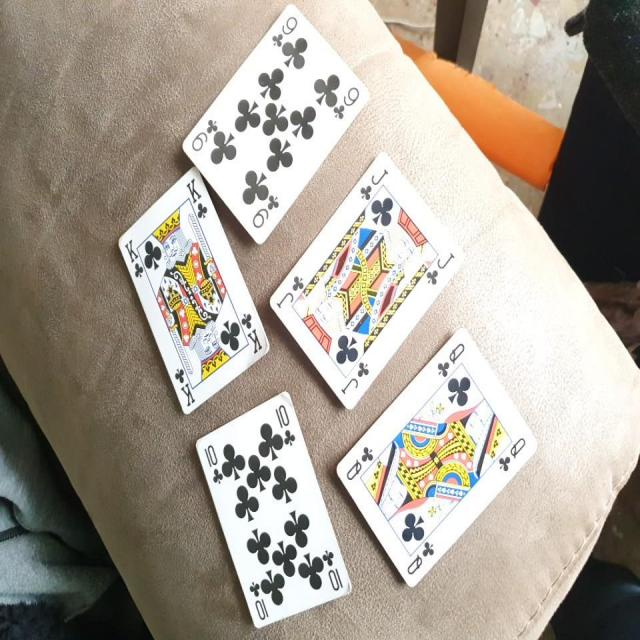10 Trefoils: (192, 391, 352, 629)
9 Trefoils: (177, 1, 368, 238)
J Trefoils: (268, 154, 466, 413)
K Trefoils: (116, 167, 271, 420)
Q Trefoils: (332, 327, 536, 590)
